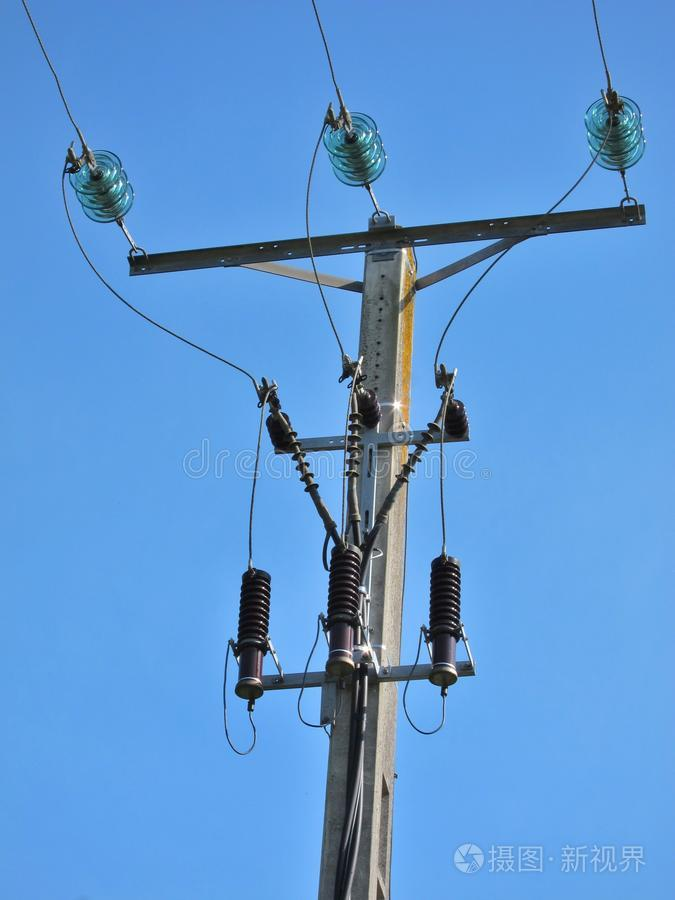insulator: (69, 148, 135, 225), (323, 110, 385, 187), (586, 95, 647, 171), (395, 422, 441, 485), (287, 428, 318, 492), (344, 413, 363, 479)
